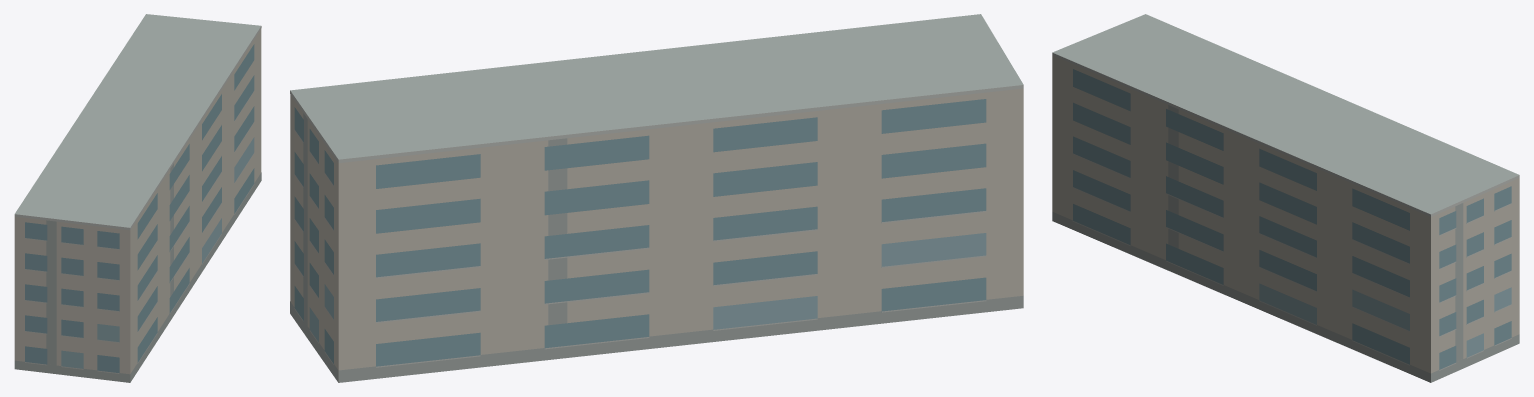
Rendered from residential-80b1785d-8bab-497c-9cd9-eda9f304ecc9.glb.
3 views of the same model, side by side, from view 1: azimuth 30°, elevation 25°; view 2: azimuth 150°, elevation 25°; view 3: azimuth 270°, elevation 25° (orthographic). The views are drawn at different scales.
Visible parts, largest first — view 1: residential-80b1785d-8bab-497c-9cd9-eda9f304ecc9.tmp; view 2: residential-80b1785d-8bab-497c-9cd9-eda9f304ecc9.tmp; view 3: residential-80b1785d-8bab-497c-9cd9-eda9f304ecc9.tmp.
Part boxes in pixels (x1,y1,x2,y2): residential-80b1785d-8bab-497c-9cd9-eda9f304ecc9.tmp: (14, 14, 261, 382); residential-80b1785d-8bab-497c-9cd9-eda9f304ecc9.tmp: (290, 14, 1023, 382); residential-80b1785d-8bab-497c-9cd9-eda9f304ecc9.tmp: (1052, 14, 1519, 382).
Bounding box in the file's own units: 38.93 × 15.25 × 38.37.
